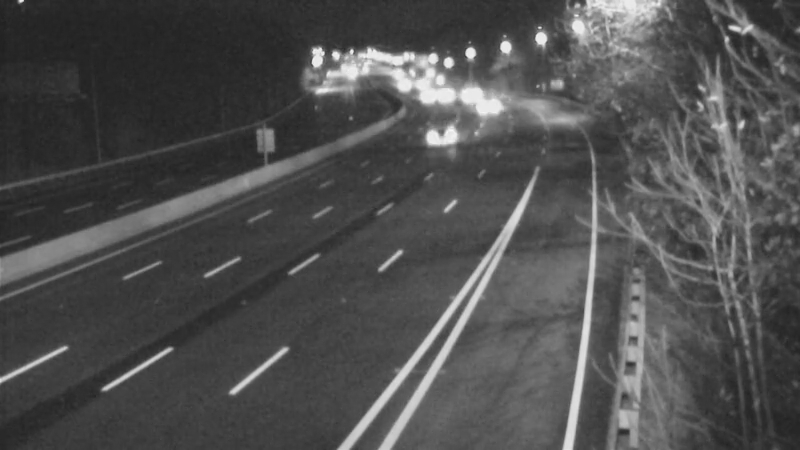vehicle: (423, 73, 473, 123), (405, 73, 455, 123), (442, 71, 492, 121), (460, 83, 510, 133), (414, 109, 464, 159)
